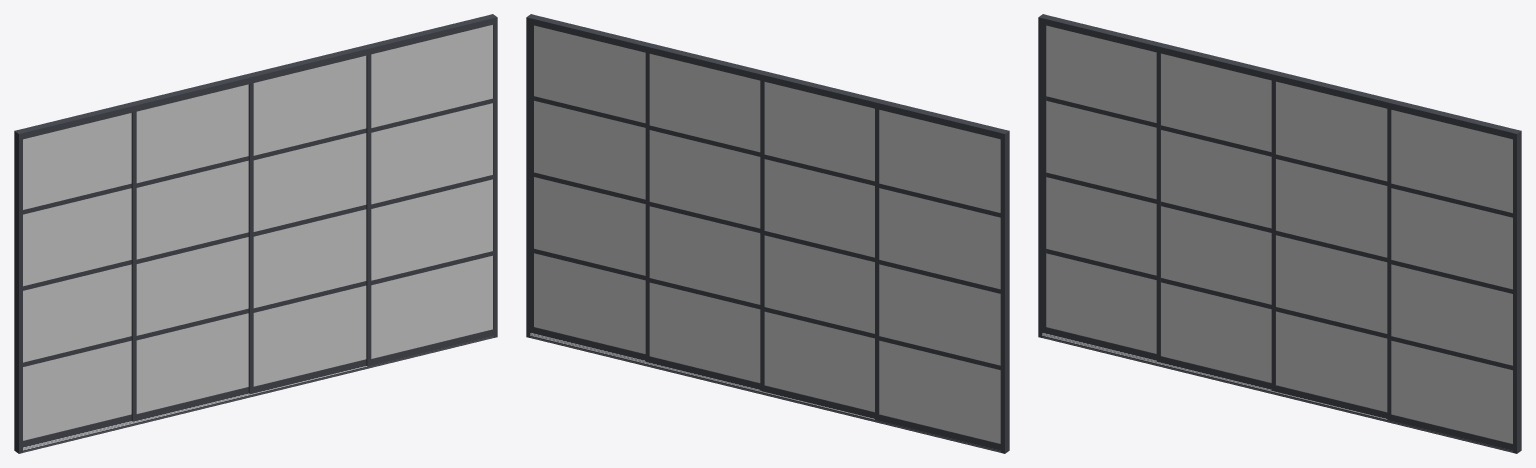
File: Nebbiolo_Steel_Look_Doors_Front.glb
3 renders of one model, left to right at view 1: azimuth 30°, elevation 25°; view 2: azimuth 150°, elevation 25°; view 3: azimuth 330°, elevation 25°, orthographic.
Visible parts, largest first — view 1: steel_door_front_400_250; view 2: steel_door_front_400_250; view 3: steel_door_front_400_250.
Boxes of the visible parts, box(x1,y1,x2,y2) form: steel_door_front_400_250: box(14, 14, 497, 453); steel_door_front_400_250: box(526, 14, 1009, 453); steel_door_front_400_250: box(1038, 14, 1521, 453).
Size of the model in its own units: 3.91 by 2.5 by 0.065.
Materials: 3 (1 with a texture image).
